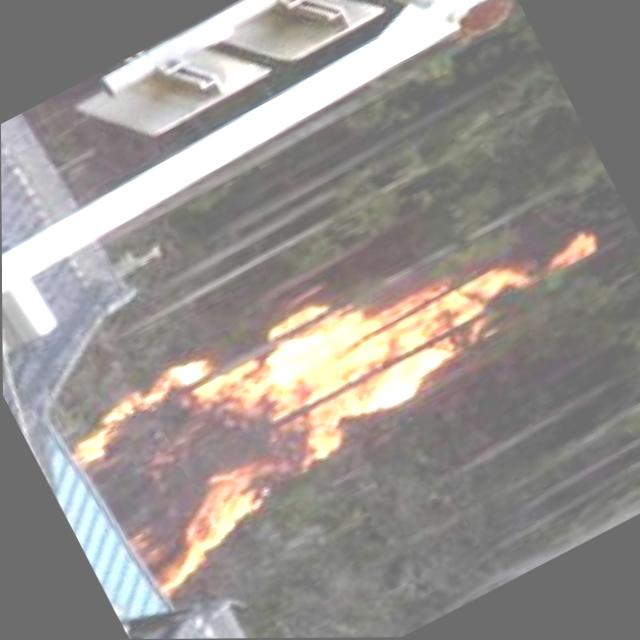Fire: (62, 214, 563, 596)
